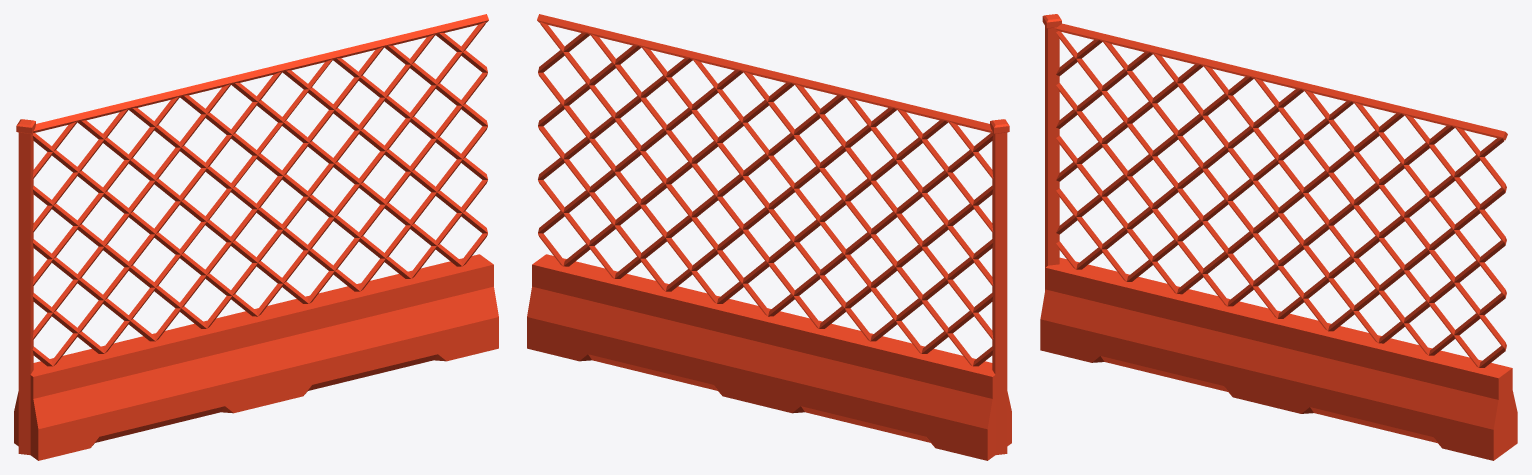
Rendered from SM_Fence_Construction_Low_3m_City.fbx.
The picture shows the model from 3 angles, left to right: view 1: azimuth 30°, elevation 25°; view 2: azimuth 150°, elevation 25°; view 3: azimuth 330°, elevation 25°; orthographic projection.
Parts seen in each view (by area): view 1: SM_Fence_Construction_Low_3m_City; view 2: SM_Fence_Construction_Low_3m_City; view 3: SM_Fence_Construction_Low_3m_City.
Part boxes in pixels (box(x1,y1,x2,y2)): SM_Fence_Construction_Low_3m_City: box(14, 14, 498, 460); SM_Fence_Construction_Low_3m_City: box(527, 14, 1011, 460); SM_Fence_Construction_Low_3m_City: box(1040, 14, 1517, 460).
Bounding box in the file's own units: 3.06 × 2.05 × 0.2748.
